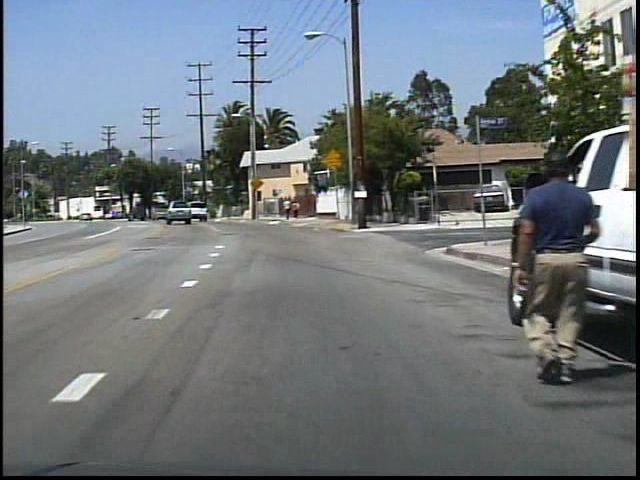person: (502, 152, 586, 380), (281, 197, 292, 221), (290, 199, 300, 221)
